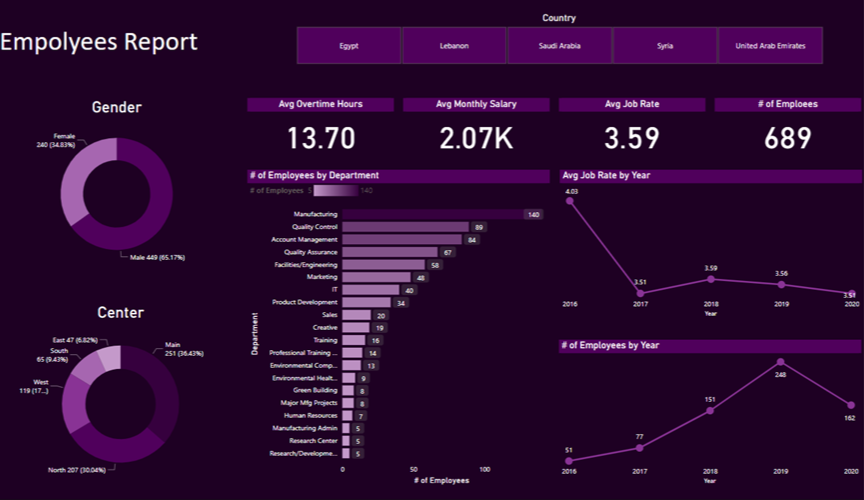

The page's visual inventory and layout, read from the dashboard file:
{"tool":"powerbi","page":{"name":"Page 1","canvas":[1550,900],"ordinal":0},"visuals":[{"type":"textbox","box":[0,44.6,453.7,81.8],"z":0},{"type":"card","title":"# of Emploees","fields":{"Values":["CountNonNull(Employees.No)"]},"box":[1282.8,180.8,261.4,108.6],"z":1000},{"type":"card","title":"Avg Job Rate","fields":{"Values":["Avg(Employees.Job Rate)"]},"box":[1004.2,180.8,261.4,108.6],"z":2000},{"type":"card","title":"Avg Monthly Salary","fields":{"Values":["Avg(Employees.Monthly Salary)"]},"box":[725.7,180.8,261.4,108.6],"z":3000},{"type":"card","title":"Avg Overtime Hours","fields":{"Values":["Avg(Employees.Overtime Hours)"]},"box":[447.1,180.8,261.4,108.6],"z":4000},{"type":"lineChart","title":"# of Employees by Year","fields":{"Category":["Employees.Start Date.Variation.Date Hierarchy.Year"],"Y":["CountNonNull(Employees.No)"]},"box":[1004.1,612.9,540,263.3],"z":6000},{"type":"barChart","title":"# of Employees by Department","fields":{"Category":["Employees.Department"],"Y":["CountNonNull(Employees.No)"]},"box":[447.1,309.3,540,567.1],"z":7000},{"type":"donutChart","title":"Center","fields":{"Category":["Employees.Center"],"Y":["CountNonNull(Employees.Center)"]},"box":[19.1,546.8,404.3,330],"z":8000},{"type":"donutChart","title":"Gender","fields":{"Category":["Employees.Gender"],"Y":["CountNonNull(Employees.Gender)"]},"box":[7.7,181,414.3,311.4],"z":9000},{"type":"slicer","title":"Country","fields":{"Values":["Employees.Country"]},"box":[510.4,28.7,988.9,98.9],"z":10000},{"type":"lineChart","title":"Avg Job Rate by Year","fields":{"Category":["Employees.Start Date.Variation.Date Hierarchy.Year"],"Y":["Avg(Employees.Job Rate)"]},"box":[1005.6,309.4,540,267.8],"z":10001}]}

Visuals, with their boxes in screenshot pixels (x1, y1, x2, y2), scaled from the page's 1550x900 canvas onto the 864x500 screenshot:
textbox: 0 25 253 70
"# of Emploees" card: 715 100 861 161
"Avg Job Rate" card: 560 100 705 161
"Avg Monthly Salary" card: 405 100 550 161
"Avg Overtime Hours" card: 249 100 395 161
"# of Employees by Year" lineChart: 560 340 861 487
"# of Employees by Department" barChart: 249 172 550 487
"Center" donutChart: 11 304 236 487
"Gender" donutChart: 4 101 235 274
"Country" slicer: 285 16 836 71
"Avg Job Rate by Year" lineChart: 561 172 862 321
